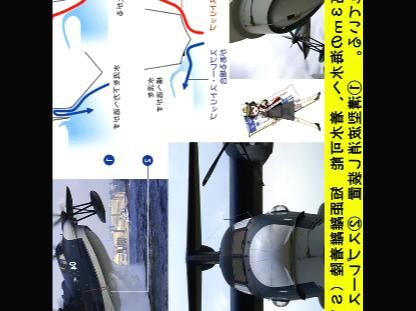Tu95: (173, 141, 326, 310), (53, 184, 124, 310), (228, 0, 326, 63)
